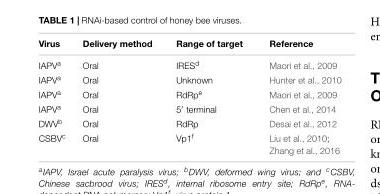table: (37, 37, 340, 154)
table column: (163, 37, 255, 154), (73, 37, 163, 154), (255, 37, 340, 154), (37, 37, 73, 154)
table column header: (37, 37, 340, 53)
table row: (37, 129, 340, 154), (37, 53, 340, 71), (37, 37, 340, 53), (37, 85, 340, 100), (37, 100, 340, 115), (37, 71, 340, 85), (37, 115, 340, 129)
